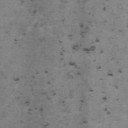oxide scale of temperature system: (14, 18, 123, 128), (20, 0, 37, 16), (102, 6, 107, 11), (14, 38, 18, 42)
